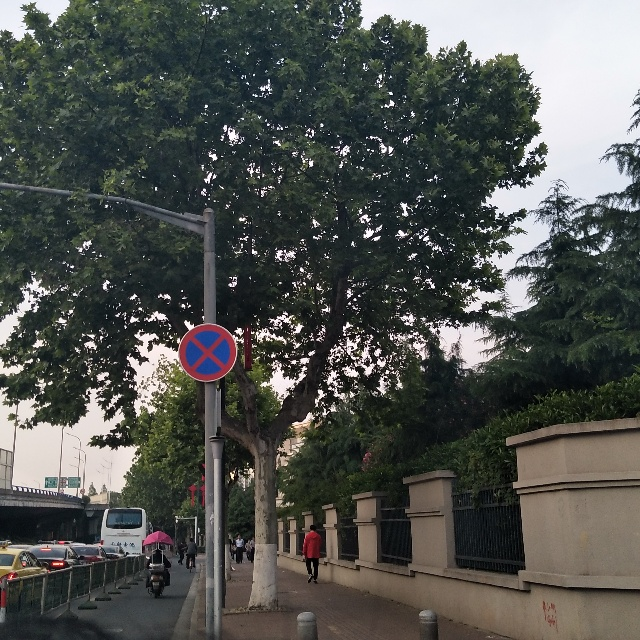stop: (173, 323, 236, 380)
